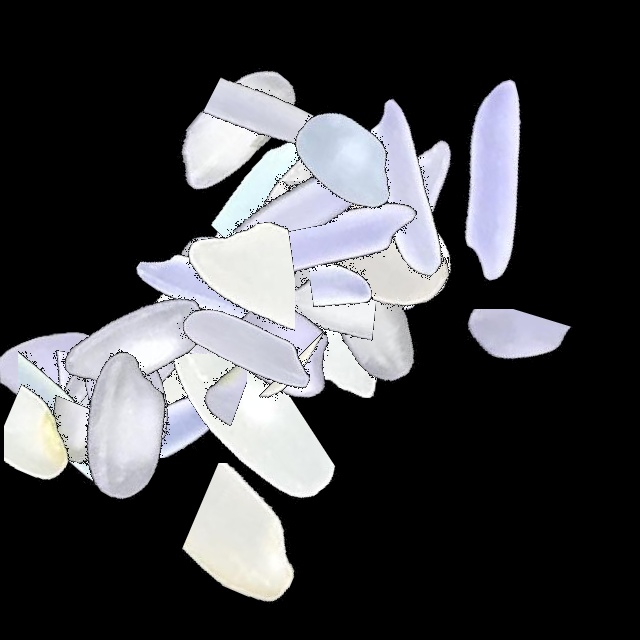Broken: (0, 243, 173, 493), (190, 134, 362, 384), (164, 97, 414, 267), (93, 354, 343, 515), (159, 49, 409, 210), (232, 180, 482, 336), (18, 283, 166, 533), (141, 463, 391, 607), (234, 173, 376, 423), (155, 165, 295, 415), (0, 319, 250, 458), (183, 181, 433, 317), (381, 309, 631, 443), (149, 104, 399, 232), (0, 340, 124, 590), (0, 381, 250, 493), (16, 278, 118, 528), (4, 311, 106, 561), (148, 247, 247, 497), (307, 147, 397, 397), (222, 325, 472, 413), (248, 228, 498, 315), (310, 151, 393, 401), (257, 183, 334, 433)
Full: (48, 227, 298, 477), (60, 223, 310, 473), (194, 141, 444, 391), (186, 75, 436, 325), (164, 177, 414, 427), (86, 183, 336, 433), (281, 103, 531, 353), (371, 54, 621, 304), (243, 121, 493, 371), (0, 239, 250, 489), (127, 192, 377, 442), (112, 173, 362, 423), (189, 179, 439, 429), (0, 270, 250, 520), (12, 216, 262, 466), (196, 111, 446, 361), (201, 142, 451, 392), (202, 68, 452, 318), (245, 191, 495, 441), (106, 3, 356, 253), (232, 121, 482, 371), (282, 63, 532, 313), (160, 228, 410, 478), (0, 302, 250, 552), (124, 223, 374, 473), (220, 31, 470, 281)
